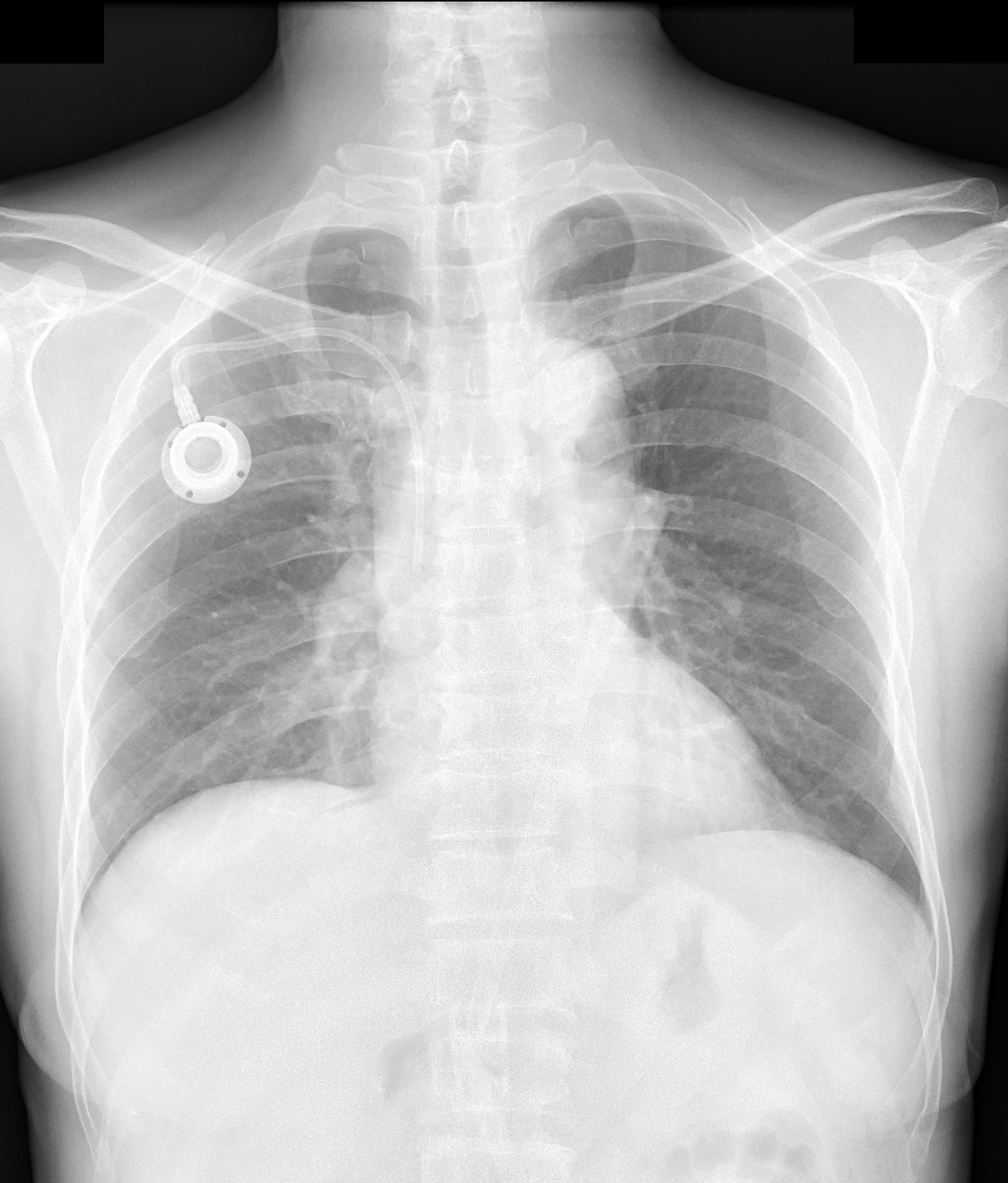Aortic enlargement: (507, 340, 633, 487)
